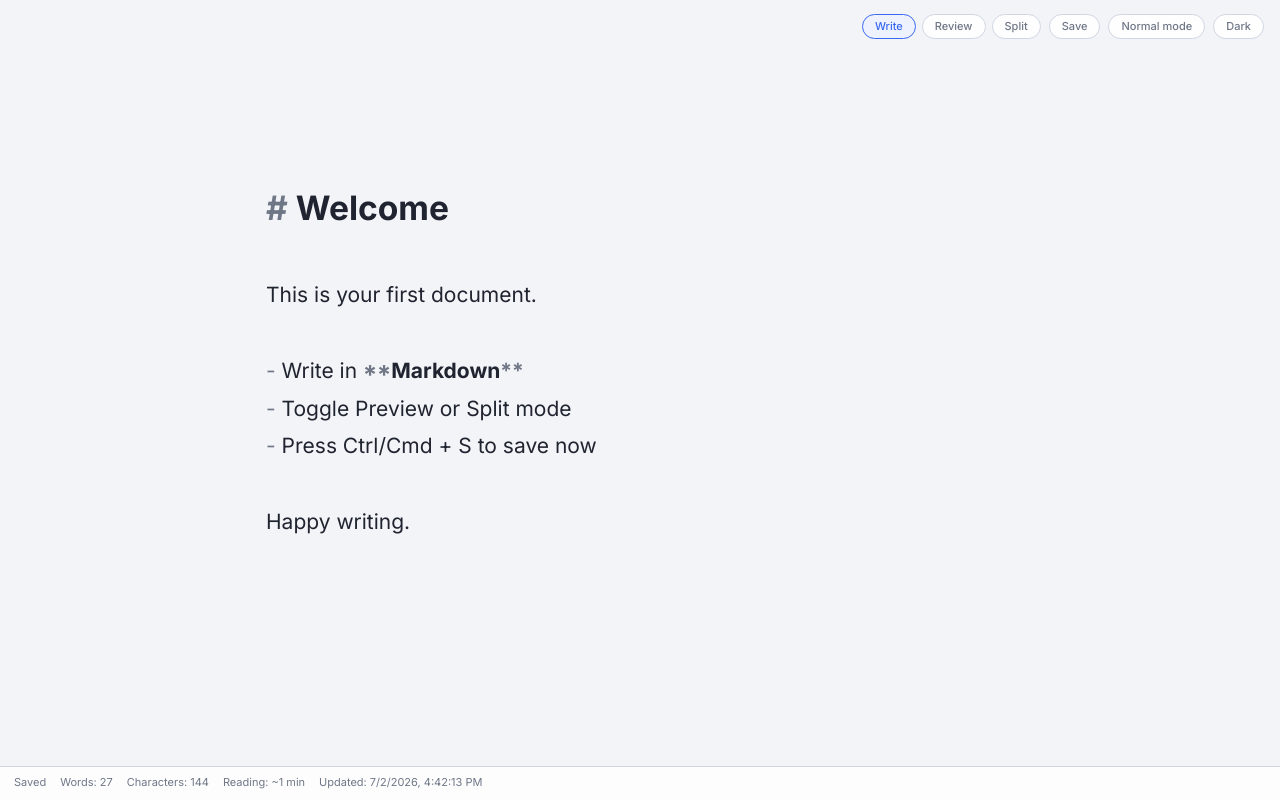
Test: App — settings › replaces the document list while settings are open
This screenshot has width=1280, height=800.
Click the button "Normal mode" at [1157, 26], box [1108, 14, 1205, 39]
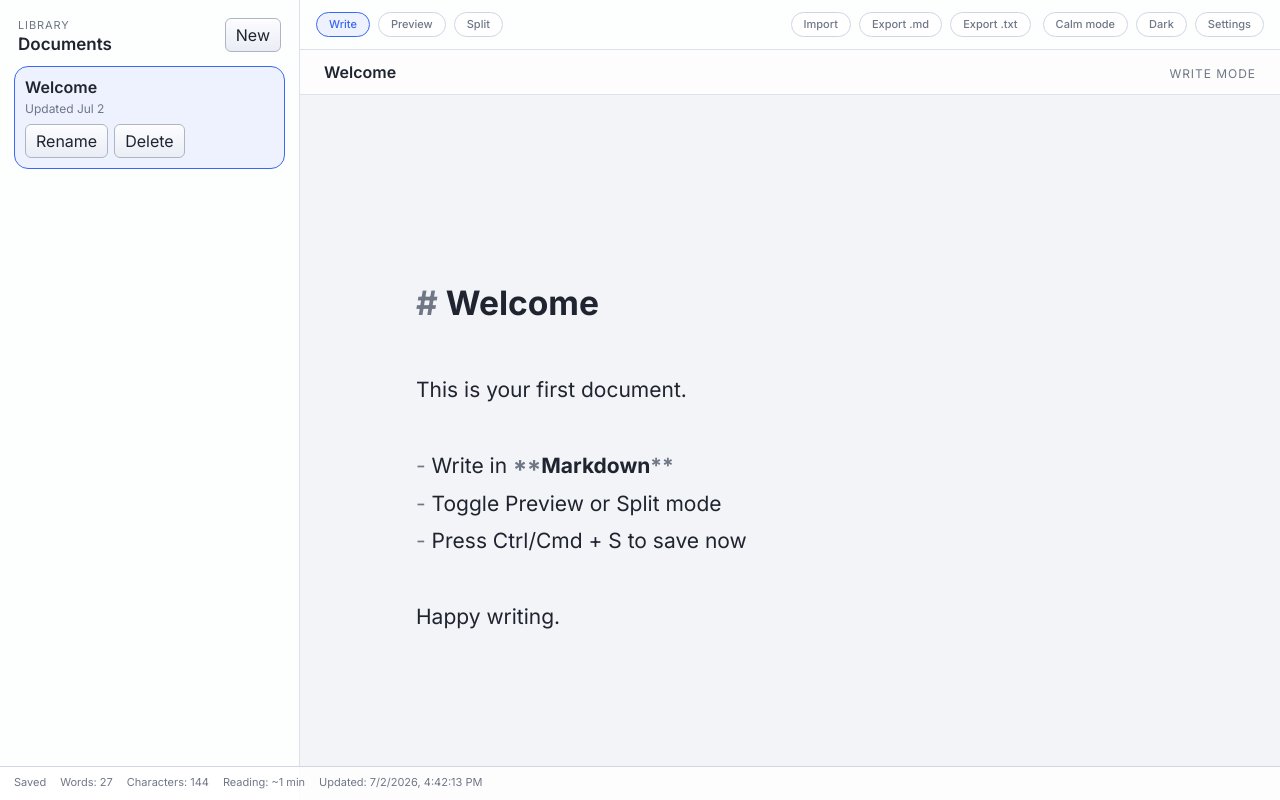
Expected: the heading "Documents" is shown, [18, 34, 112, 54]
Click the button "Settings" at [1229, 24], box [1195, 12, 1264, 37]
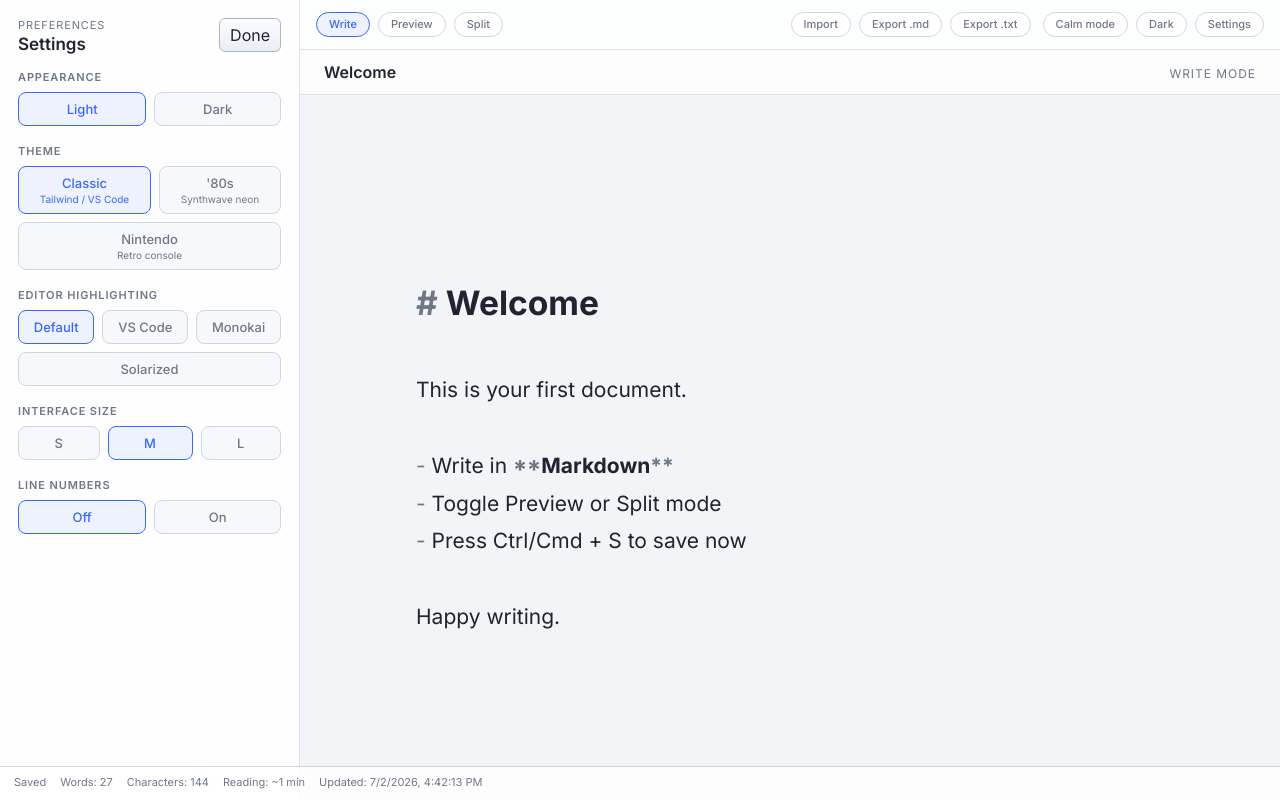
Expected: the heading "Documents" is gone
